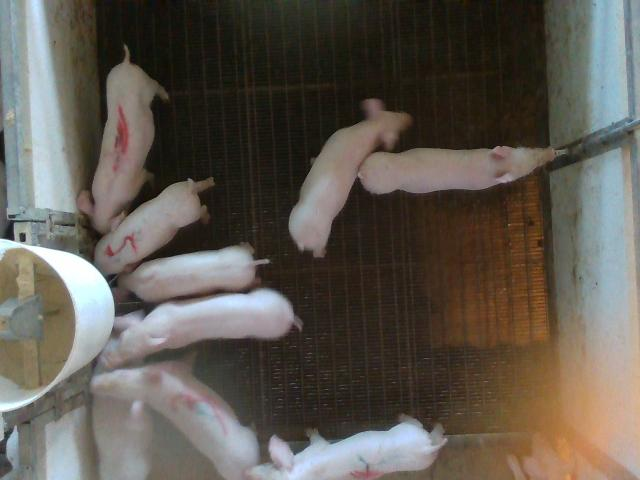pig-1: (79, 46, 168, 234)
pig-3: (91, 360, 258, 479)
pig-4: (246, 415, 448, 479)
pig-5: (95, 179, 214, 275)
